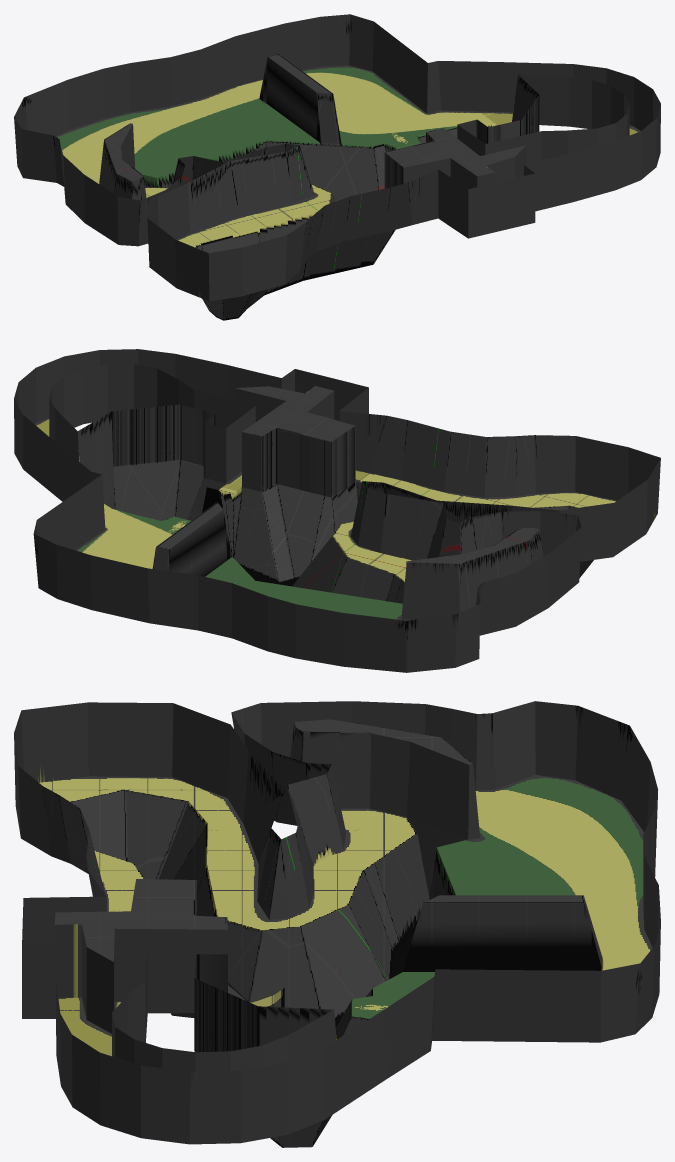
Rendered from track1.fbx.
The picture shows the model from 3 angles, top to bottom: view 1: azimuth 30°, elevation 25°; view 2: azimuth 150°, elevation 25°; view 3: azimuth 270°, elevation 25°; orthographic projection. The views are drawn at different scales.
Parts seen in each view (by area): view 1: Plane; view 2: Plane; view 3: Plane.
Part boxes in pixels (x1,y1,x2,y2): Plane: (14,14,660,320); Plane: (14,349,660,672); Plane: (14,701,660,1147).
Bounding box in the file's own units: 1850 × 349 × 1365.
